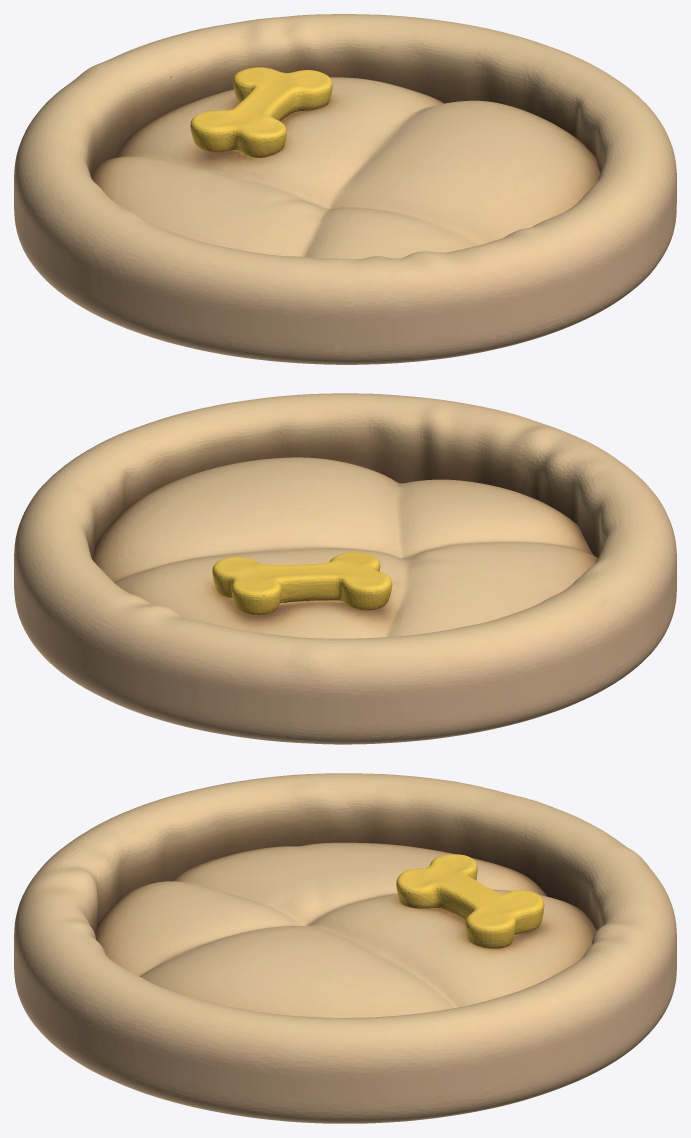
Rendered from DOM_mat_1__second.glb.
3 views of the same model, one above another, from view 1: azimuth 30°, elevation 25°; view 2: azimuth 150°, elevation 25°; view 3: azimuth 270°, elevation 25° (orthographic).
Parts seen in each view (by area): view 1: tripo_node_97e1aa9a-9b37-44e0-97b4-9ad5a9c792b7; view 2: tripo_node_97e1aa9a-9b37-44e0-97b4-9ad5a9c792b7; view 3: tripo_node_97e1aa9a-9b37-44e0-97b4-9ad5a9c792b7.
Part boxes in pixels (x1=…): tripo_node_97e1aa9a-9b37-44e0-97b4-9ad5a9c792b7: x1=14, y1=14, x2=676, y2=364; tripo_node_97e1aa9a-9b37-44e0-97b4-9ad5a9c792b7: x1=14, y1=393, x2=676, y2=744; tripo_node_97e1aa9a-9b37-44e0-97b4-9ad5a9c792b7: x1=14, y1=773, x2=676, y2=1123.
Size of the model in its own units: 0.9791 by 0.1497 by 0.9794.
1 material, 1 textured.
